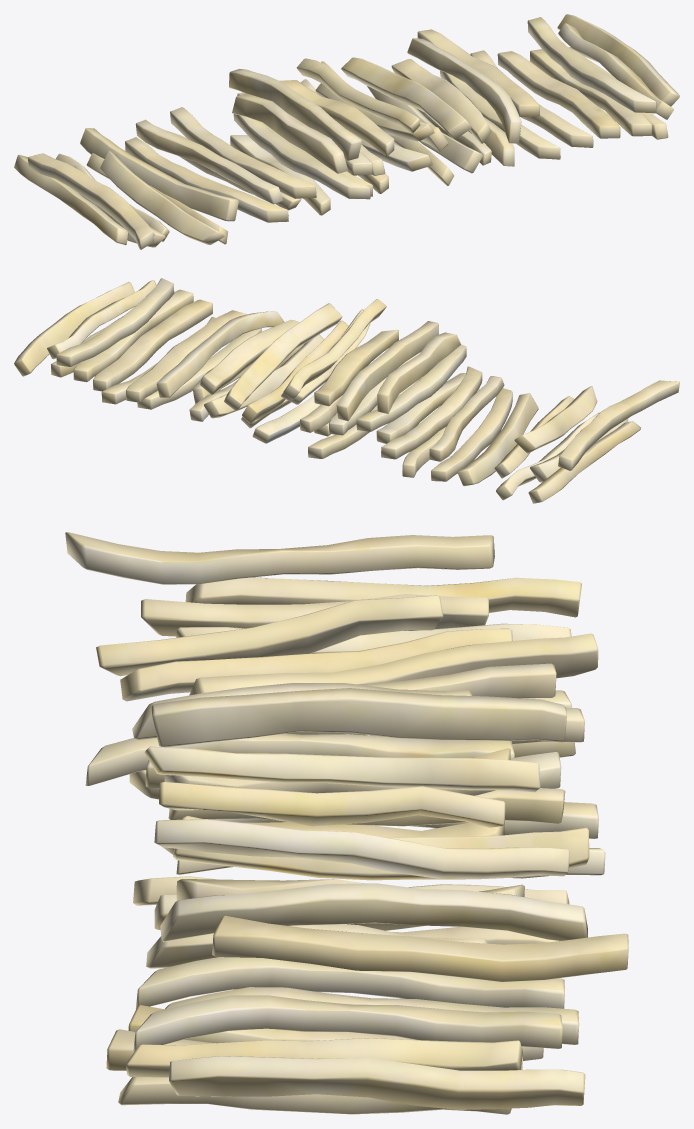
File: CutPotato_Visual.fbx
3 renders of one model, top to bottom at view 1: azimuth 30°, elevation 25°; view 2: azimuth 150°, elevation 25°; view 3: azimuth 270°, elevation 25°, orthographic. The views are drawn at different scales.
Parts seen in each view (by area): view 1: RawPotato; view 2: RawPotato; view 3: RawPotato.
Part boxes in pixels (bbox=[...]): RawPotato: bbox=[14, 14, 679, 249]; RawPotato: bbox=[14, 278, 679, 503]; RawPotato: bbox=[65, 532, 628, 1114].
Size of the model in its own units: 37.09 by 4.67 by 16.66.
1 material, 1 textured.
